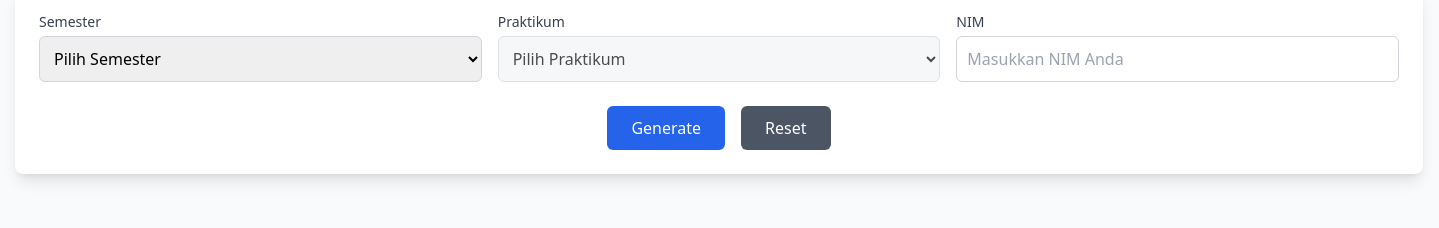
Test: Form Component › validates NIM input
The width and height of the screenshot is (1439, 228).
Note: First select a semester to pass the semester validation
Select "Semester 1" in the dropdown labelled "Semester". click: (260, 59)
box: [39, 36, 482, 82]
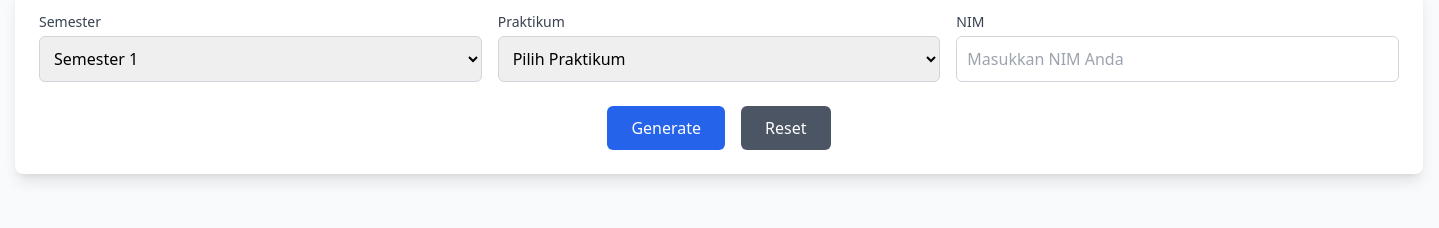
Note: Then select a praktikum
Select "Praktikum Algoritma dan Pemrograman I - Rp 350,000" in the dropdown labelled "Praktikum". click: (719, 59)
box: [498, 36, 940, 82]
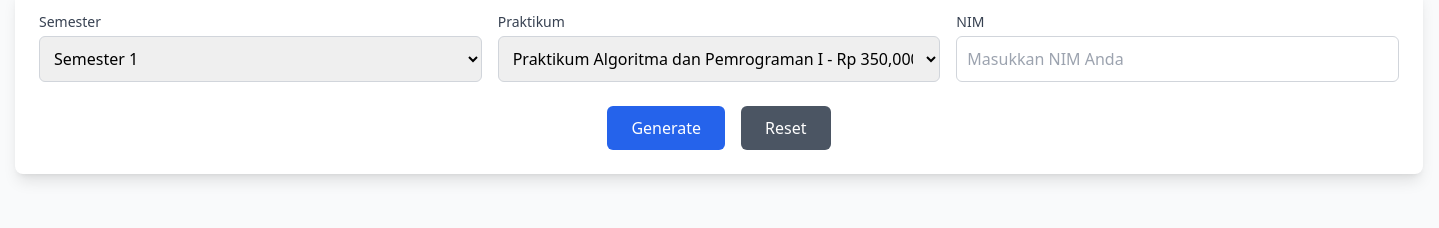
Note: Then try with invalid NIM
Type "abc" into the field labelled "NIM". click: (1178, 59)
box: [956, 36, 1399, 82]
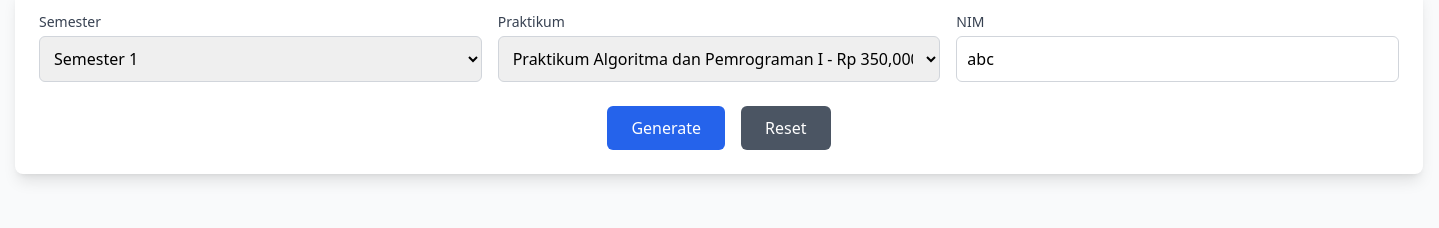
Note: Now try to generate
Click the button "Generate". click: (666, 128)
box: [607, 106, 725, 150]
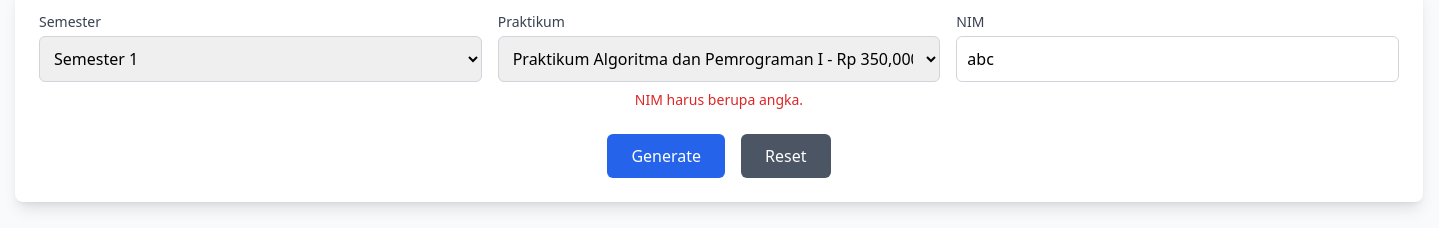
Result: the text "NIM harus berupa angka." is shown at [635, 90, 803, 109]
